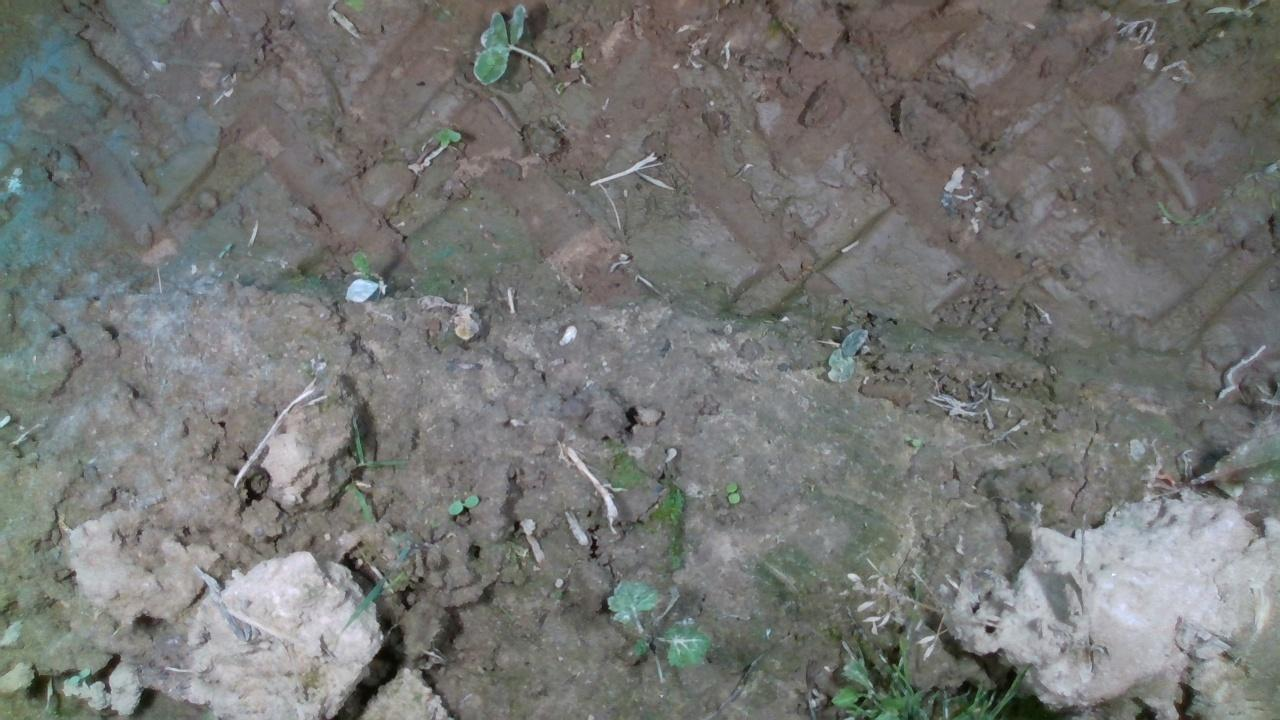weed: (724, 477, 740, 505)
